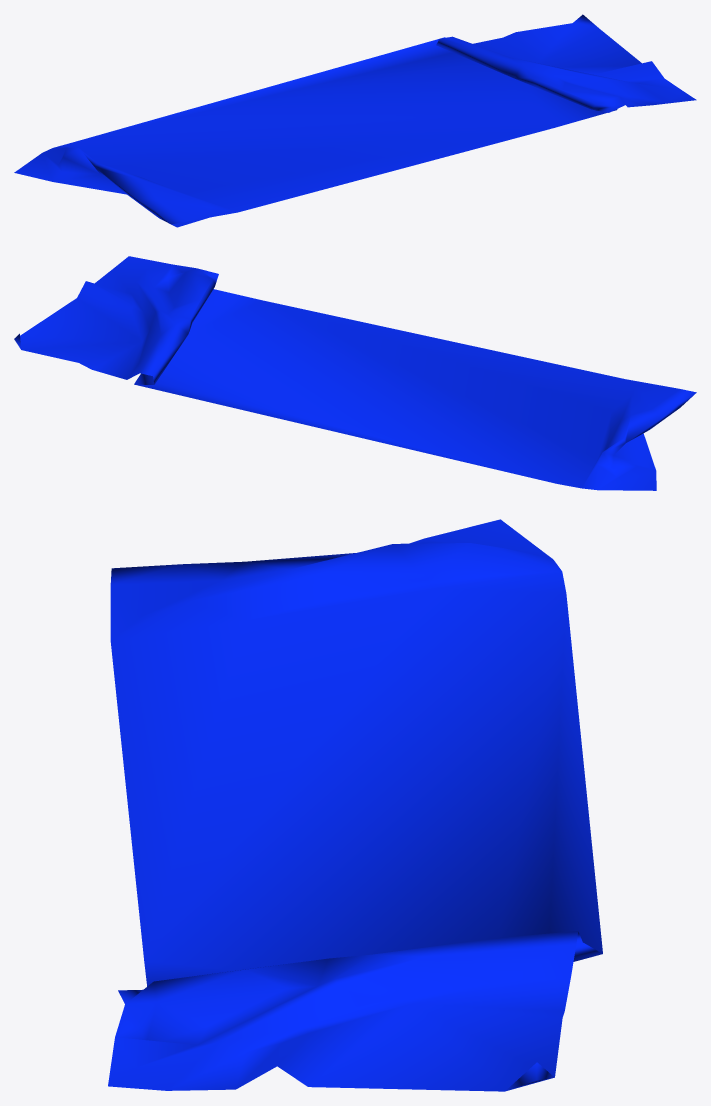
Rendered from Carpet04.fbx.
The picture shows the model from 3 angles, top to bottom: view 1: azimuth 30°, elevation 25°; view 2: azimuth 150°, elevation 25°; view 3: azimuth 270°, elevation 25°; orthographic projection. The views are drawn at different scales.
Parts seen in each view (by area): view 1: Carpet04; view 2: Carpet04; view 3: Carpet04.
Part boxes in pixels (x1,y1,x2,y2): Carpet04: (14,14,696,227); Carpet04: (14,256,696,490); Carpet04: (108,519,602,1091).
Bounding box in the file's own units: 108 × 2.86 × 39.61.
